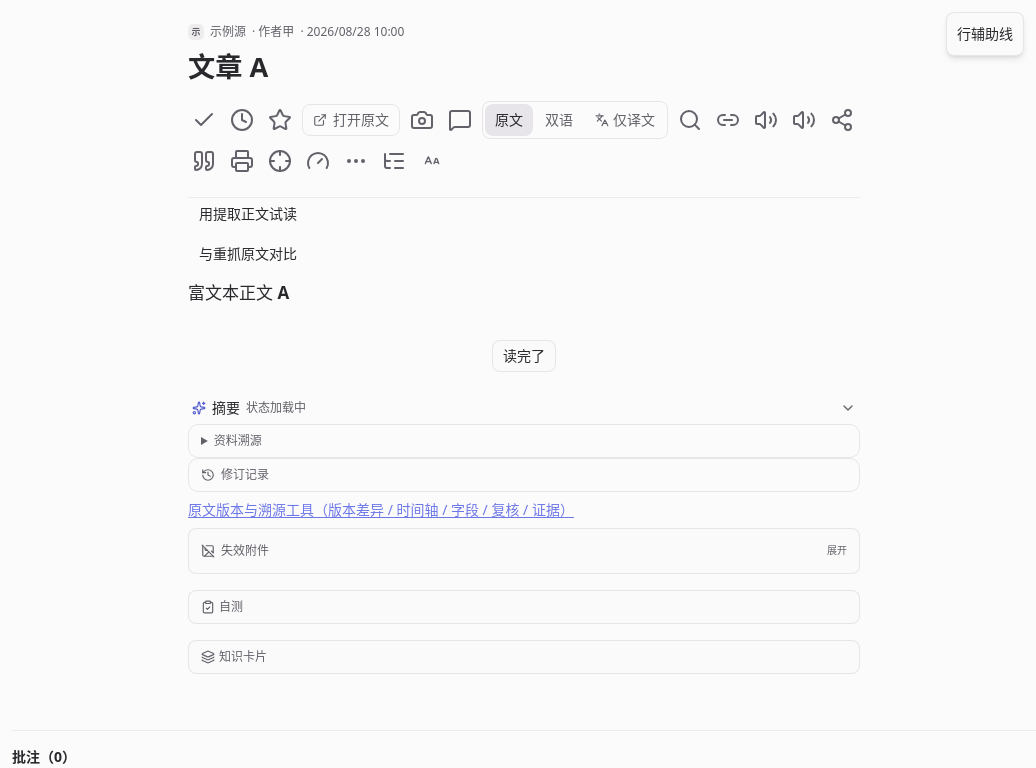
Test: Mutation pending / error UI › 任一 mutation pending → read/star 两个按钮均 disabled
Click the button named "标记为已读".
click(204, 120)  # box top-left (188, 104), bottom-right (220, 136)
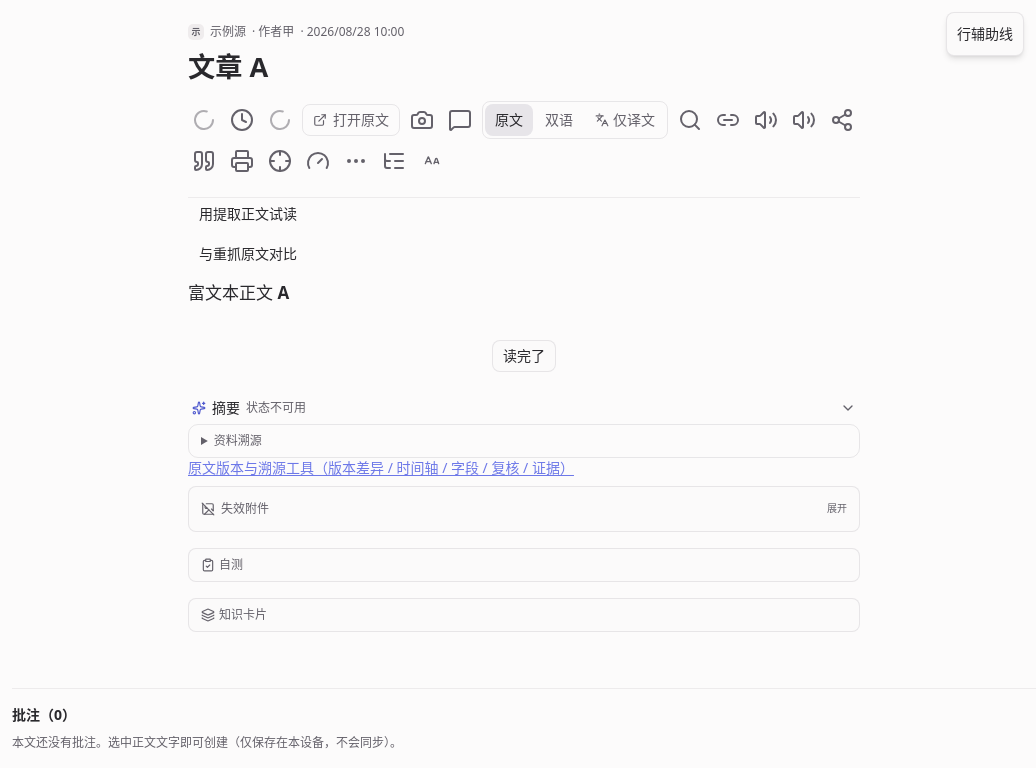
expect the number of buttons named "处理中" is 2: met, box top-left (188, 104), bottom-right (220, 136); top-left (264, 104), bottom-right (296, 136)
expect the 1st button named "处理中" is disabled: met, box top-left (188, 104), bottom-right (220, 136)
expect the 2nd button named "处理中" is disabled: met, box top-left (264, 104), bottom-right (296, 136)
